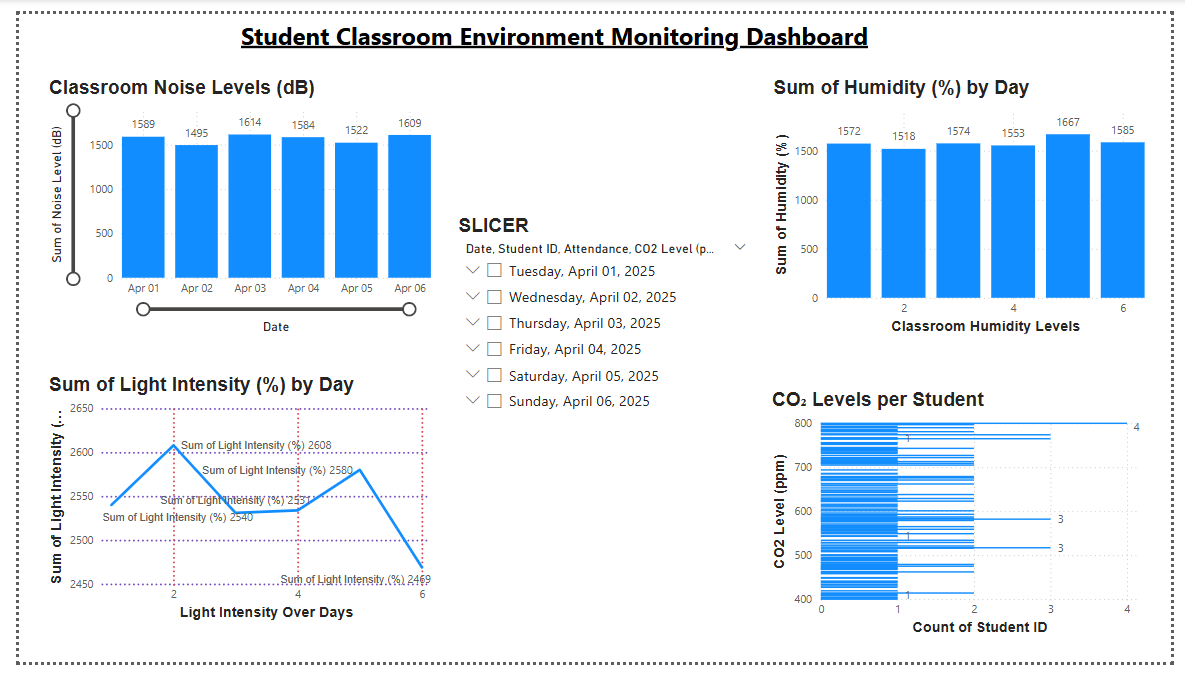

The dashboard page shown, as its layout file describes it:
{"tool":"powerbi","page":{"name":"Page 2","canvas":[1280,720],"ordinal":1},"visuals":[{"type":"clusteredColumnChart","title":"Classroom Noise Levels (dB)","fields":{"Y":["Sum(Sheet1.Noise Level (dB))"],"Category":["Sheet1.Date"]},"box":[28,70,434,290],"z":0},{"type":"textbox","box":[10,0,1170,58],"z":1000},{"type":"lineChart","fields":{"Category":["Sheet1.Date.Variation.Date Hierarchy.Day"],"Y":["Sum(Sheet1.Light Intensity (%))"]},"box":[28,400,434,278],"z":2000},{"type":"clusteredColumnChart","fields":{"Category":["Sheet1.Date.Variation.Date Hierarchy.Day"],"Y":["Sum(Sheet1.Humidity (%))"]},"box":[834,70,422,290],"z":3000},{"type":"clusteredBarChart","title":"CO₂ Levels per Student","fields":{"Y":["CountNonNull(Sheet1.Student ID)"],"Category":["Sheet1.CO2 Level (ppm)"]},"box":[832,416,422,278],"z":3001},{"type":"slicer","title":"SLICER","fields":{"Values":["Sheet1.Date","Sheet1.Student ID","Sheet1.Attendance","Sheet1.CO2 Level (ppm)"]},"box":[483.3,223.3,336.7,273.3],"z":3002}]}

Visuals, with their boxes in screenshot pixels (x1, y1, x2, y2), scaled from the page's 1280x720 canvas onto the 1185x677 screenshot:
"Classroom Noise Levels (dB)" clusteredColumnChart: (x1=26, y1=66, x2=428, y2=338)
textbox: (x1=9, y1=0, x2=1092, y2=55)
lineChart - Sheet1.Date.Variation.Date Hierarchy.Day x Sum(Sheet1.Light Intensity (%)): (x1=26, y1=376, x2=428, y2=638)
clusteredColumnChart - Sheet1.Date.Variation.Date Hierarchy.Day x Sum(Sheet1.Humidity (%)): (x1=772, y1=66, x2=1163, y2=338)
"CO₂ Levels per Student" clusteredBarChart: (x1=770, y1=391, x2=1161, y2=653)
"SLICER" slicer: (x1=447, y1=210, x2=759, y2=467)
